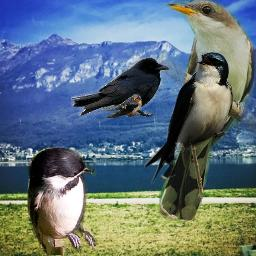Crow: (71, 57, 169, 117)
Cuckoo: (159, 0, 256, 221)
Swallow: (144, 52, 233, 184), (25, 144, 99, 255), (98, 94, 142, 118)
